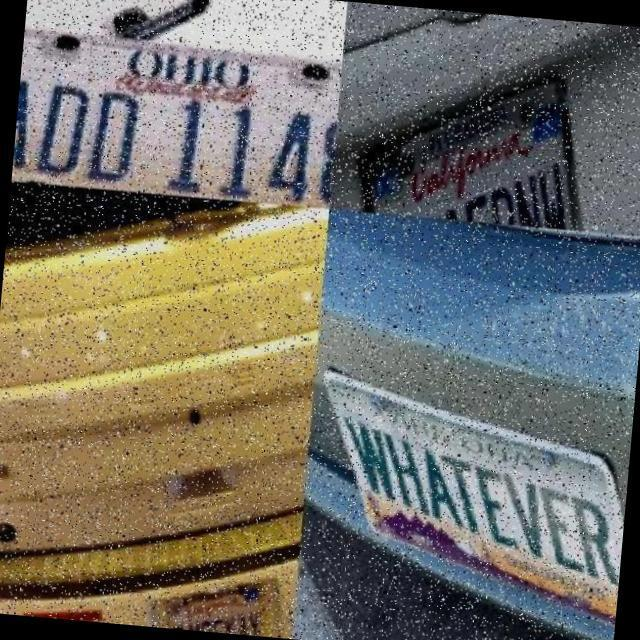License Plate: (323, 369, 625, 621), (11, 0, 345, 208), (362, 69, 587, 230), (167, 572, 283, 638)
